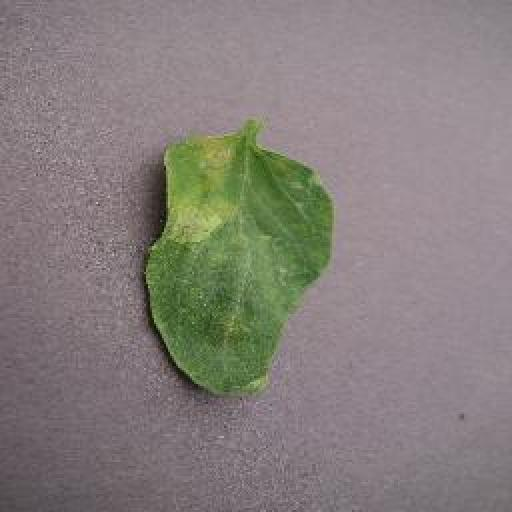disease_tomato: (144, 128, 339, 401)
